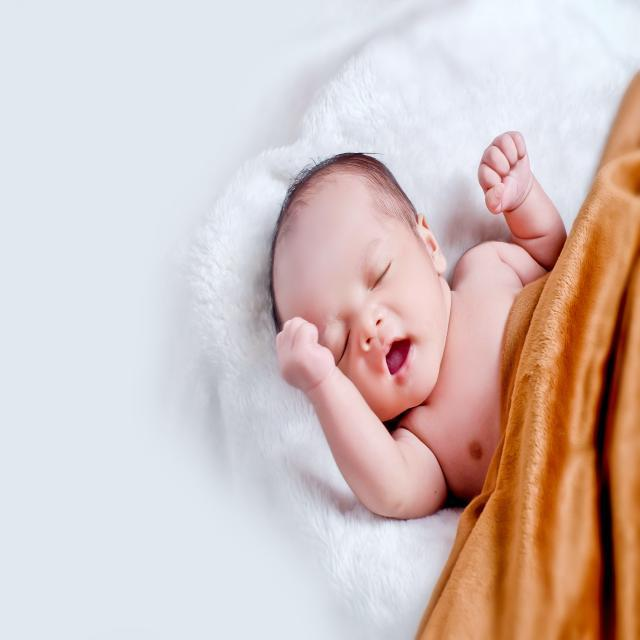non-dog: (264, 130, 567, 520)
